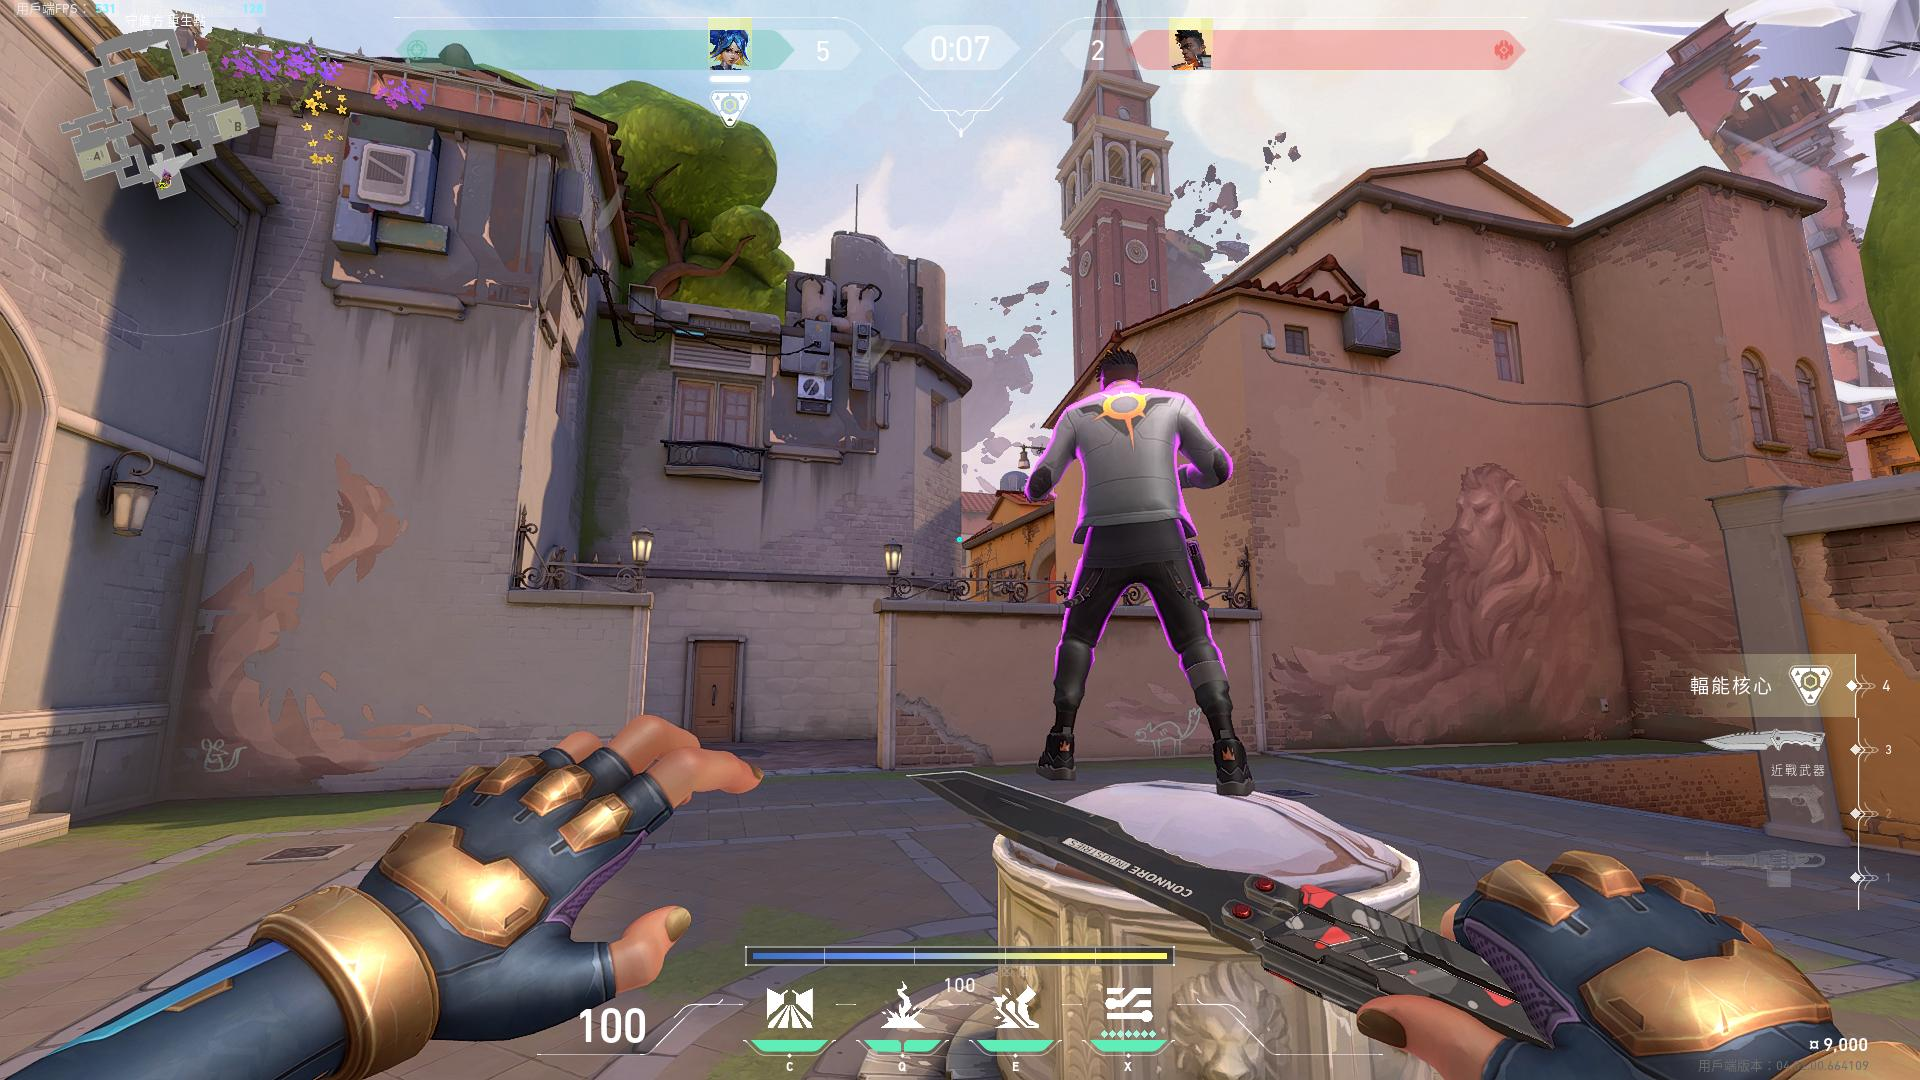enemyBody: (1084, 422, 1185, 531)
enemyHead: (422, 829, 591, 931), (1098, 353, 1147, 392)
